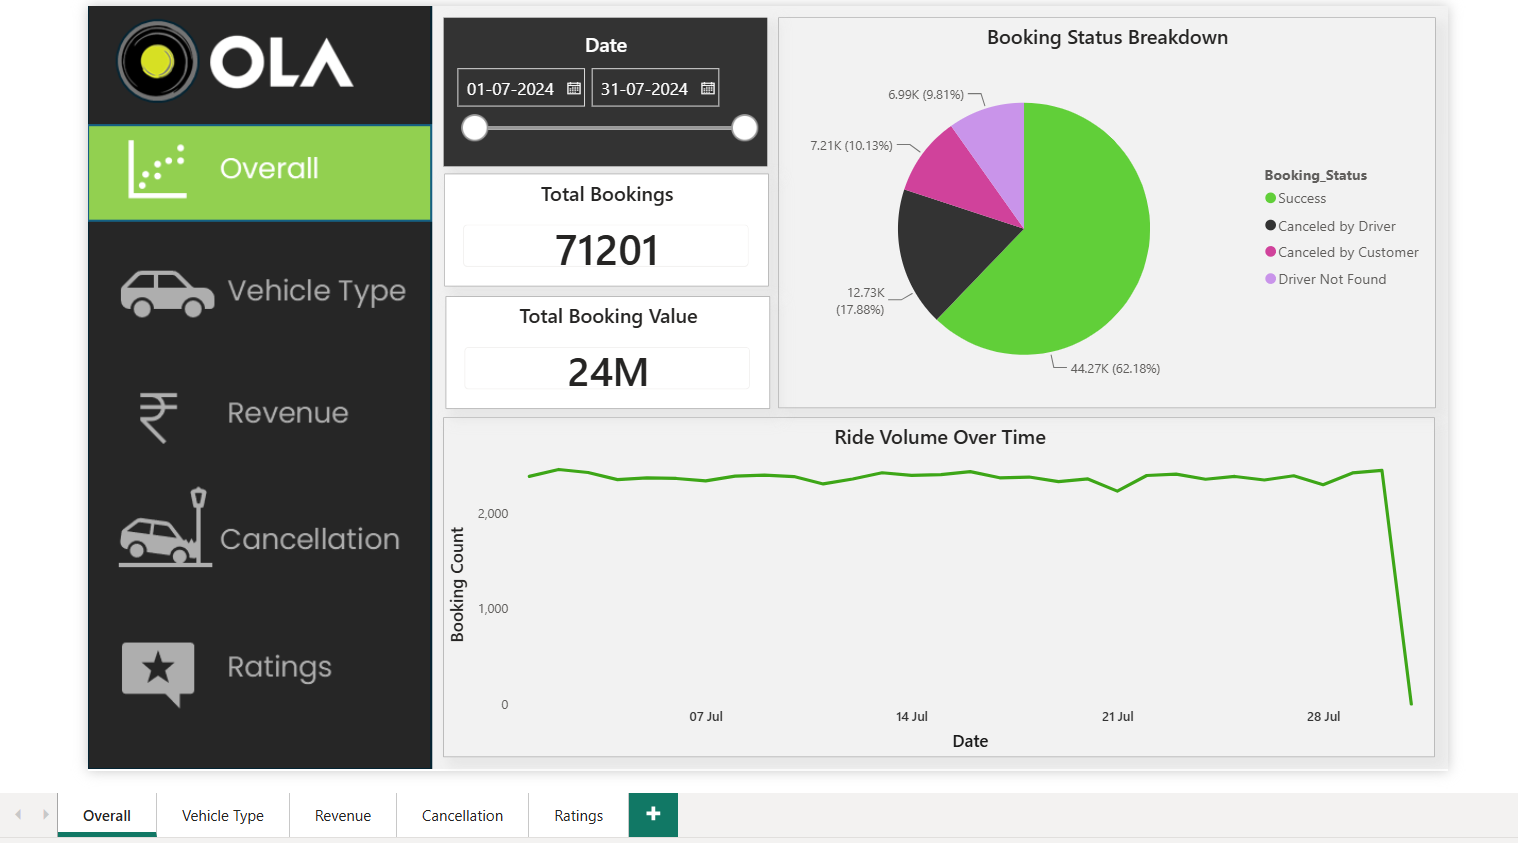

Layout of this report page (visuals, bound fields, positions):
{"tool":"powerbi","page":{"name":"Overall","canvas":[1280,720],"ordinal":0},"visuals":[{"type":"actionButton","box":[0,219.6,324.5,94.1],"z":0},{"type":"actionButton","box":[0,340.2,324.5,94.1],"z":1000},{"type":"actionButton","box":[0,454.8,324.5,94.1],"z":2000},{"type":"actionButton","box":[0,576.7,324.5,94.1],"z":3000},{"type":"pieChart","title":"Booking Status Breakdown","fields":{"Y":["CountNonNull(Ola_Data.Booking_Status)"],"Category":["Ola_Data.Booking_Status"]},"box":[649.1,10.9,618.9,368],"z":4000},{"type":"lineChart","title":"Ride Volume Over Time","fields":{"Y":["CountNonNull(Ola_Data.Booking_ID)"],"Category":["Ola_Data.Date"]},"box":[334.2,387.3,933.8,319.7],"z":5000},{"type":"slicer","title":"Date","fields":{"Values":["Ola_Data.Date"]},"box":[334.2,10.9,305.2,141.2],"z":6000},{"type":"cardVisual","title":"Total Bookings","fields":{"Data":["CountNonNull(Ola_Data.Booking_ID)"]},"box":[335.4,158,305.2,106.2],"z":7000},{"type":"cardVisual","title":"Total Booking Value","fields":{"Data":["Sum(Ola_Data.Booking_Value)"]},"box":[336.6,272.7,305.2,106.2],"z":8000}]}

Visuals, with their boxes on the page's 1280x720 design canvas (x1, y1, x2, y2). These are canvas units, not pixel positions in the 1518x843 screenshot, which may show the page scaled, cropped or inside an application window:
actionButton: locate(0, 220, 324, 314)
actionButton: locate(0, 340, 324, 434)
actionButton: locate(0, 455, 324, 549)
actionButton: locate(0, 577, 324, 671)
"Booking Status Breakdown" pieChart: locate(649, 11, 1268, 379)
"Ride Volume Over Time" lineChart: locate(334, 387, 1268, 707)
"Date" slicer: locate(334, 11, 639, 152)
"Total Bookings" cardVisual: locate(335, 158, 641, 264)
"Total Booking Value" cardVisual: locate(337, 273, 642, 379)
